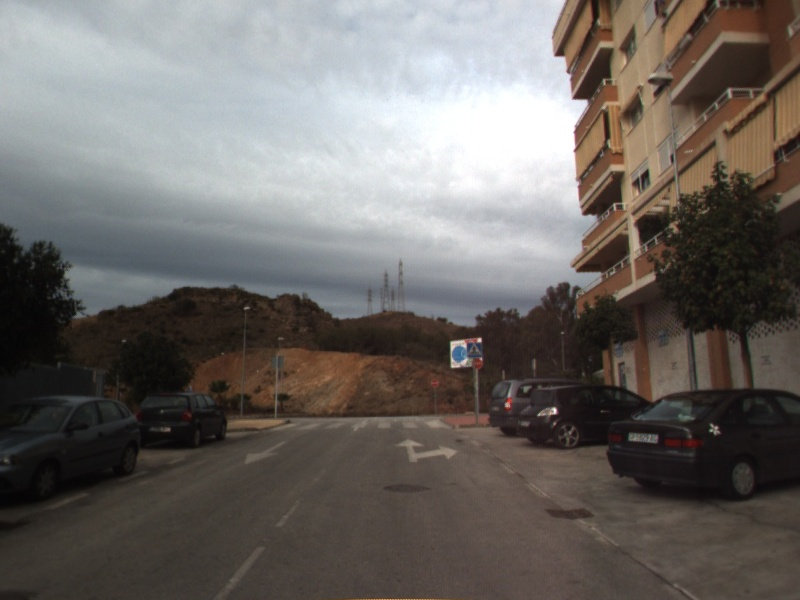STRAIGHT_RIGHT: (392, 436, 460, 464)
